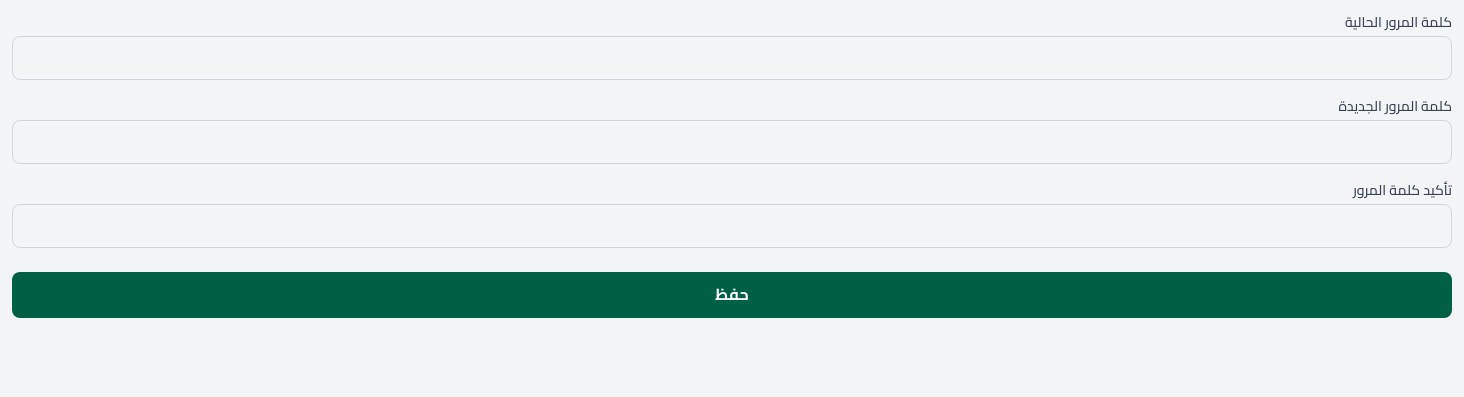
Test case: ChangePasswordForm › ينجح ويمسح الحقول
The image size is (1464, 397).
Type "old1234" into the password field labelled "كلمة المرور الحالية". click: (732, 58)
box: [12,36,1452,80]
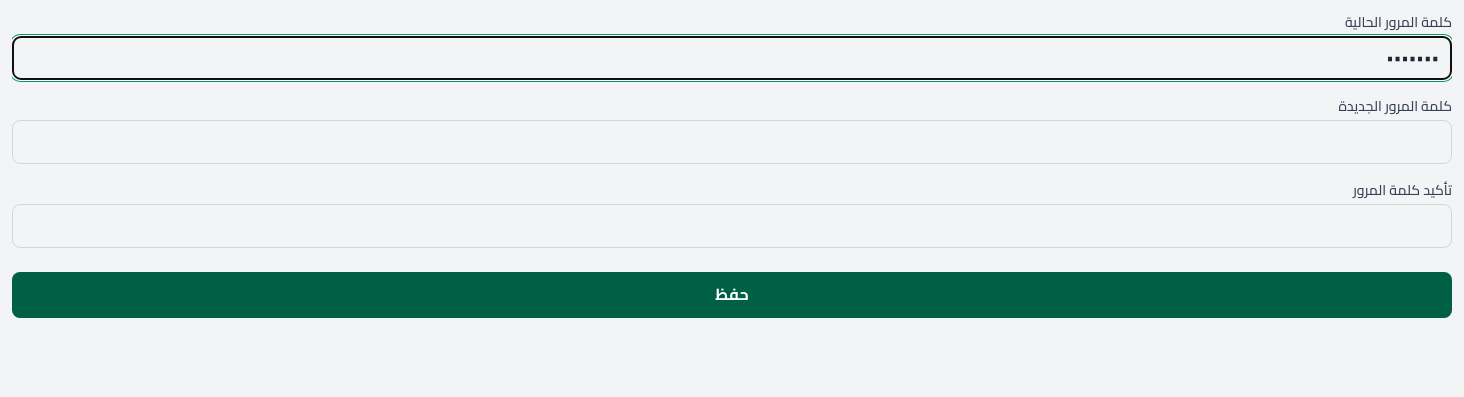
Type "newpass1234" into the password field labelled "كلمة المرور الجديدة". click: (732, 142)
box: [12,120,1452,164]
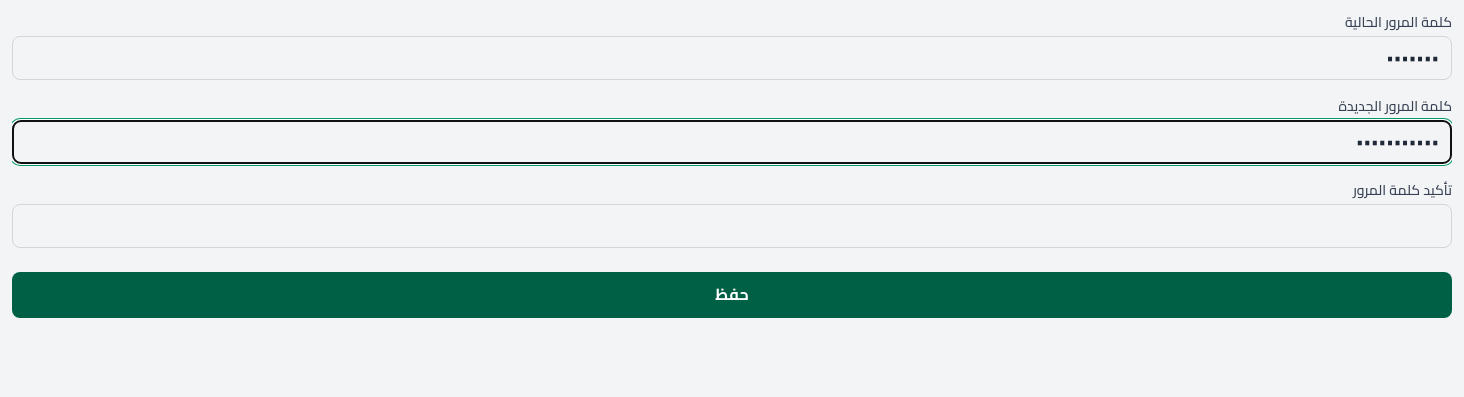
Type "newpass1234" into the password field labelled "تأكيد كلمة المرور". click: (732, 226)
box: [12,204,1452,248]
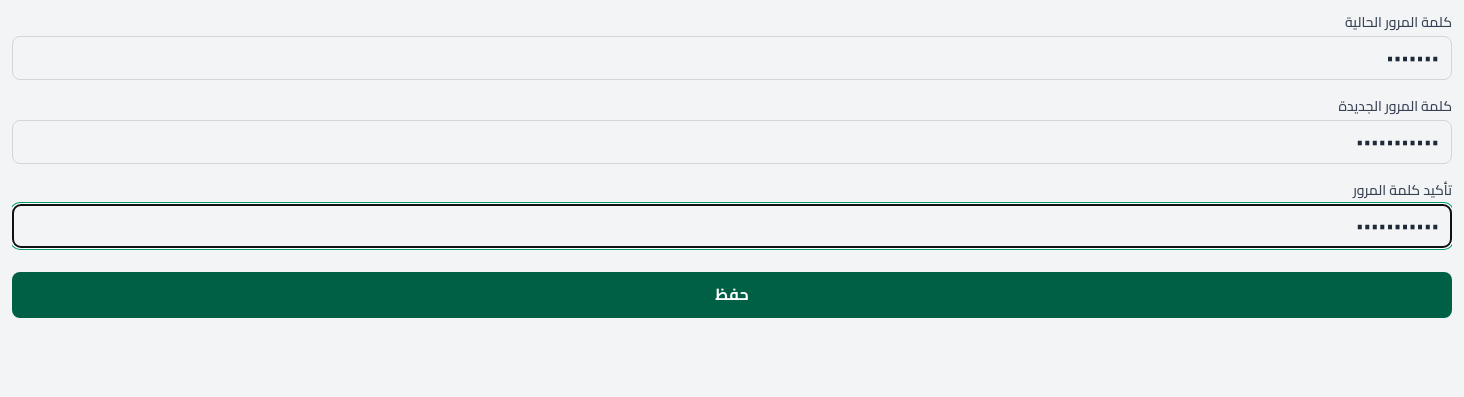
Click the button "حفظ". click: (732, 295)
box: [12,272,1452,318]
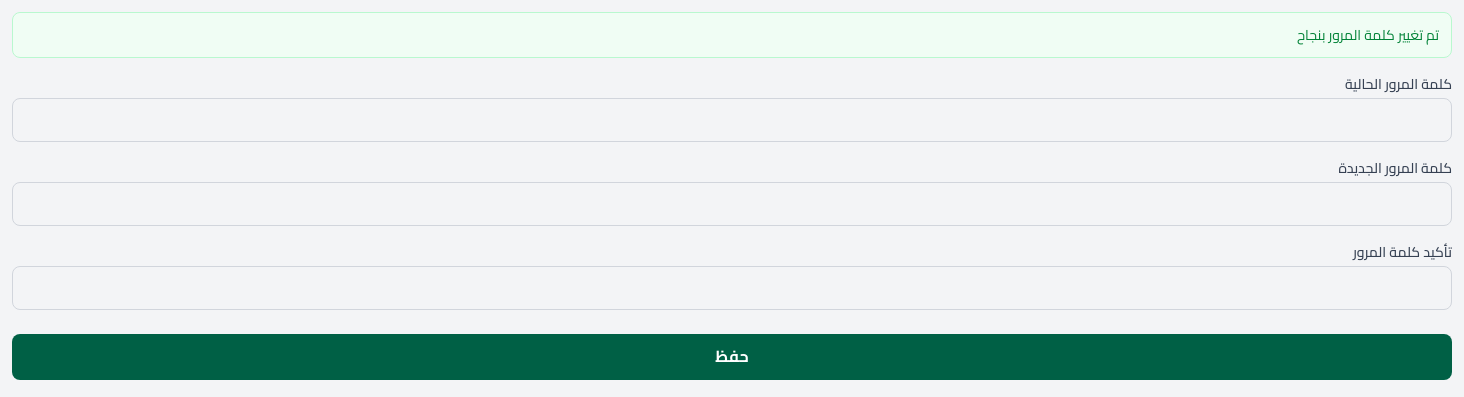
Check: the message reads "تم تغيير كلمة المرور بنجاح", box [1297,22,1439,48]
Check: the password field labelled "كلمة المرور الحالية" is empty, box [12,98,1452,142]
